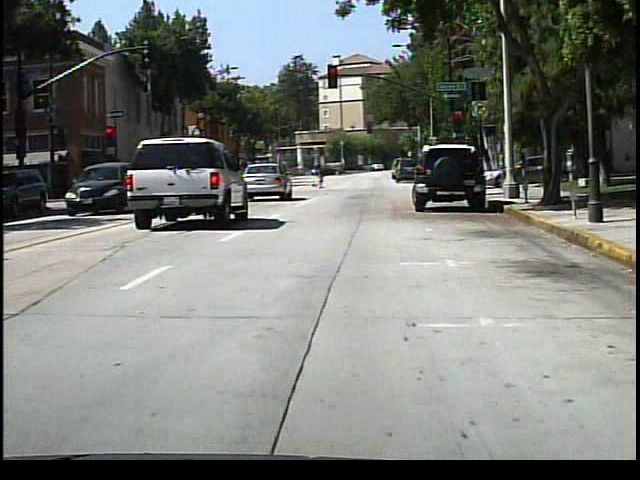person: (549, 140, 570, 187), (311, 157, 330, 191), (459, 152, 476, 184)
